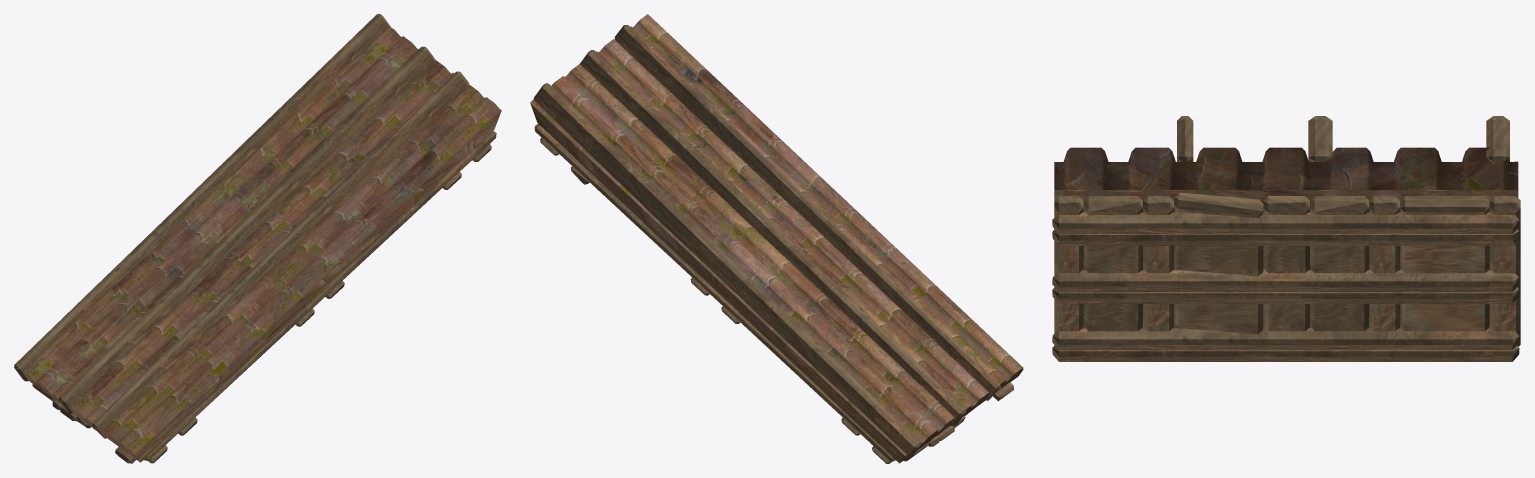
Rendered from SM_roof_01_base_04.fbx.
3 renders of one model, left to right at view 1: azimuth 30°, elevation 25°; view 2: azimuth 150°, elevation 25°; view 3: azimuth 270°, elevation 25°, orthographic. The views are drawn at different scales.
Visible parts, largest first — view 1: SM_roof_01_base_04_LOD0; view 2: SM_roof_01_base_04_LOD0; view 3: SM_roof_01_base_04_LOD0.
Boxes of the visible parts, <box> form: SM_roof_01_base_04_LOD0: <box>14,14,501,463</box>; SM_roof_01_base_04_LOD0: <box>530,14,1023,463</box>; SM_roof_01_base_04_LOD0: <box>1052,116,1520,361</box>.
Size of the model in its own units: 375 by 202 by 276.
Materials: 2 (2 with a texture image).
